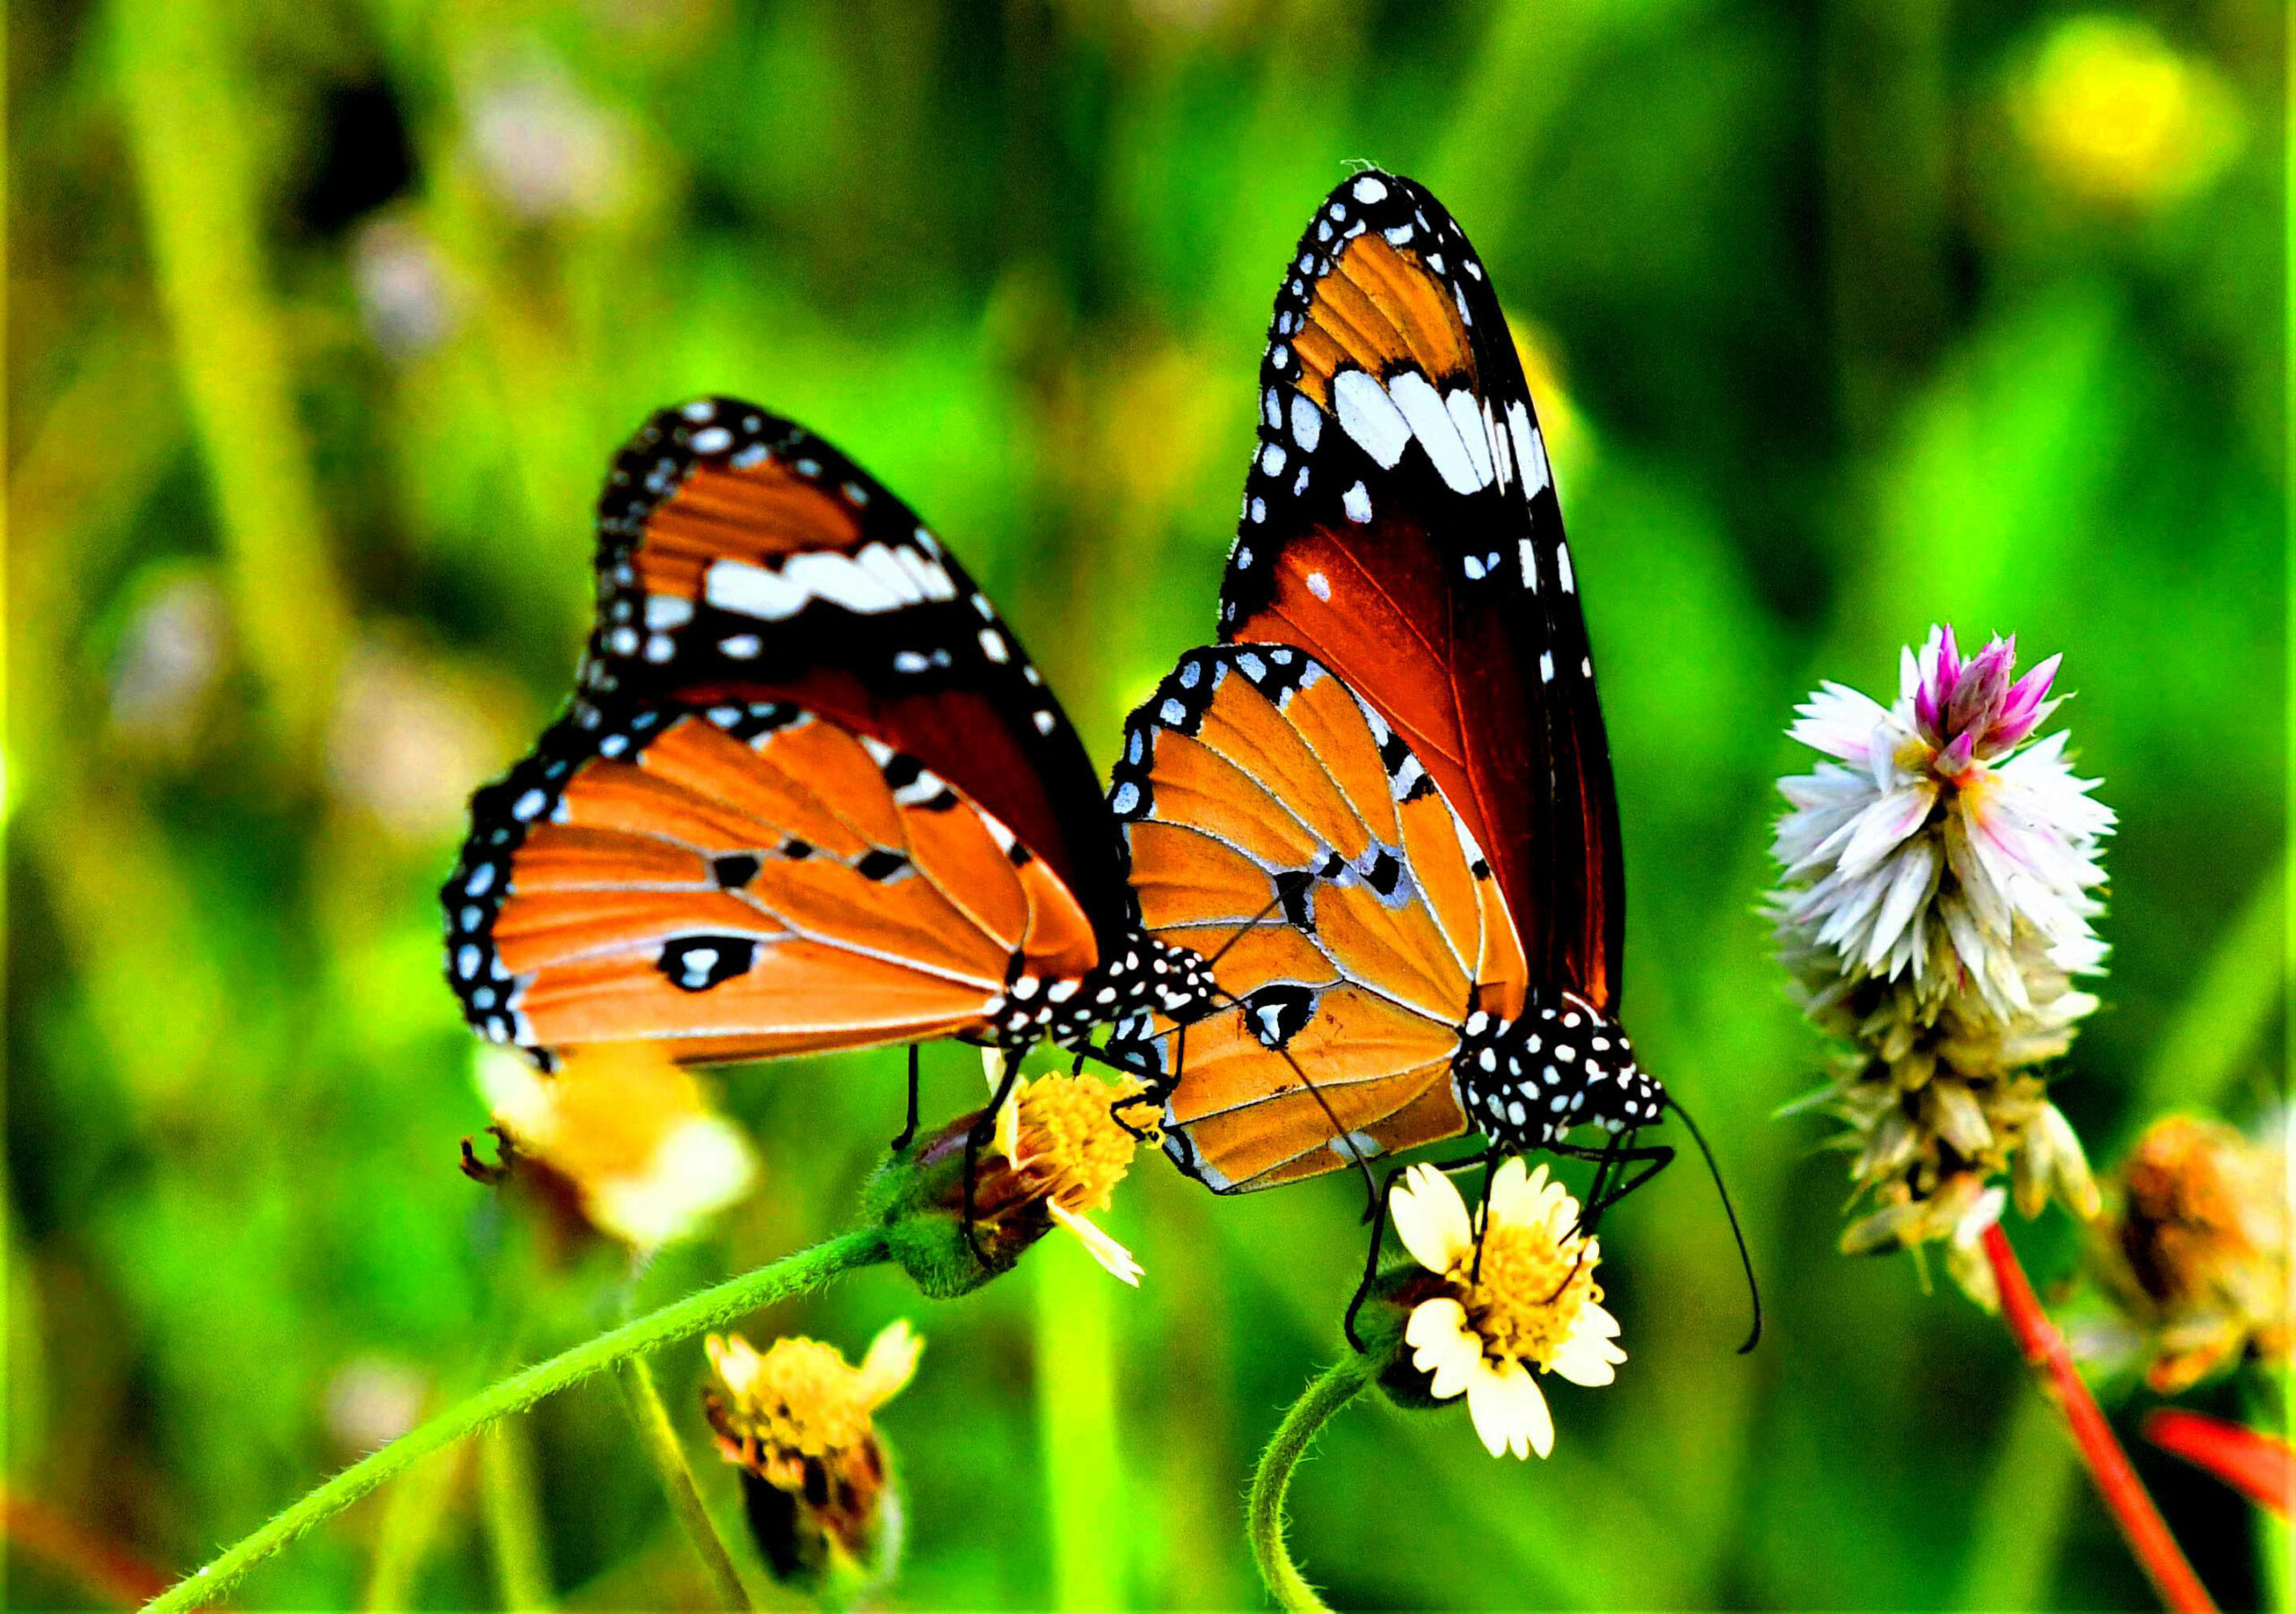Butterfly: (1131, 164, 1784, 1343), (481, 383, 1246, 1184)
